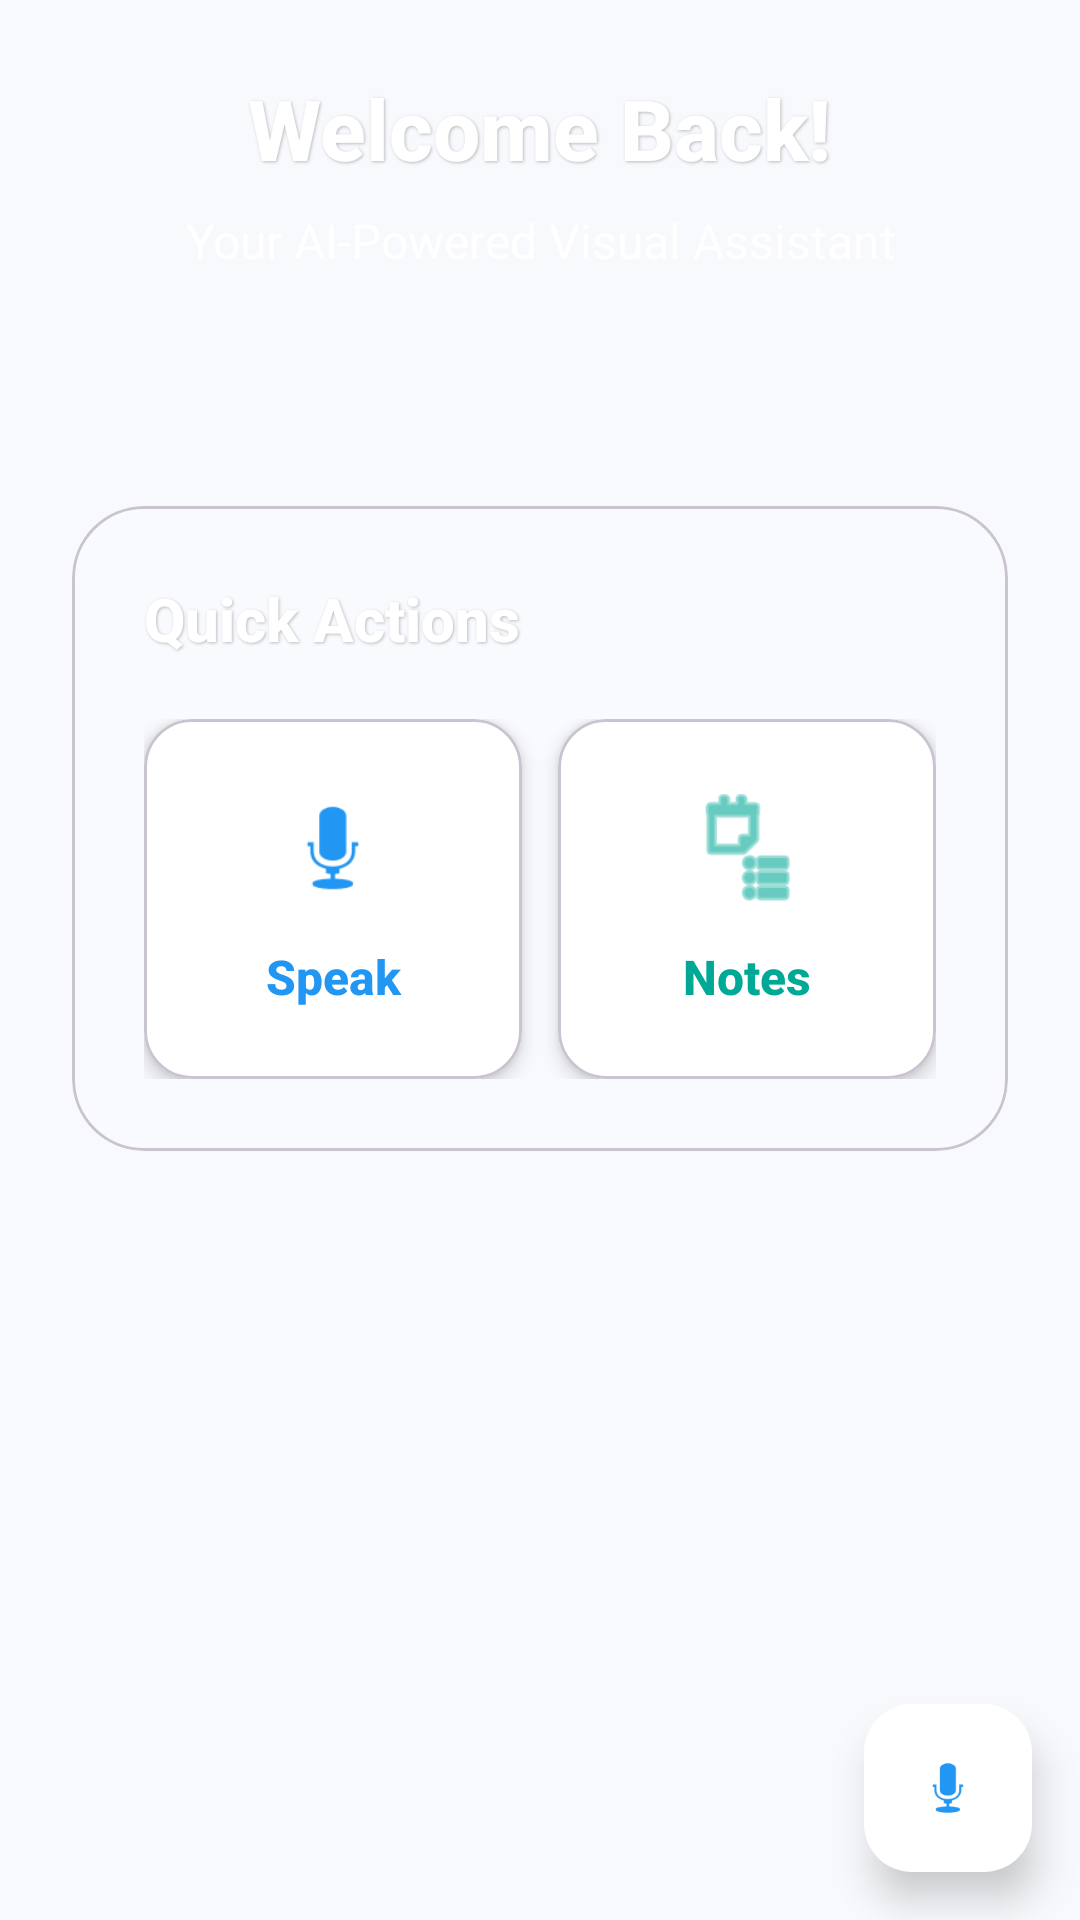

Icons on this 1080px x 1920px Android screen, each with the point to tap as [x,y]:
Start voice command: [948,1788]
Voice command icon: [332,848]
